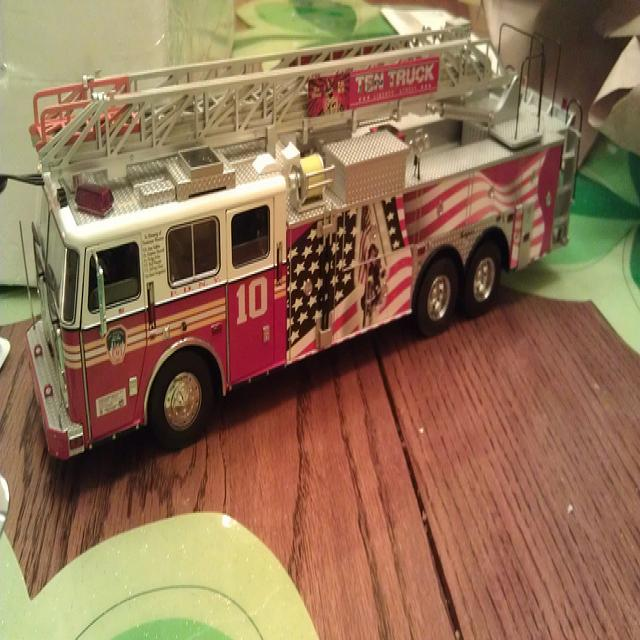Vehicle: (0, 20, 583, 459)
